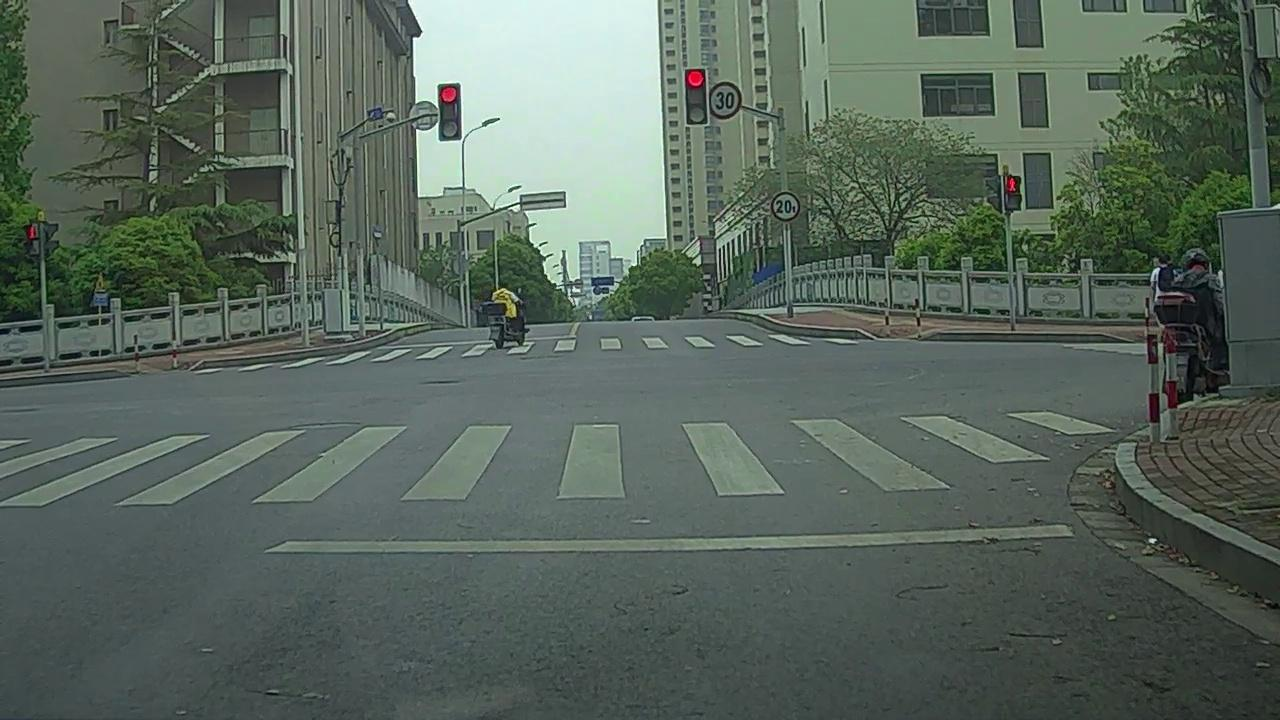traffic_light: (685, 71, 708, 121), (441, 87, 460, 137)
